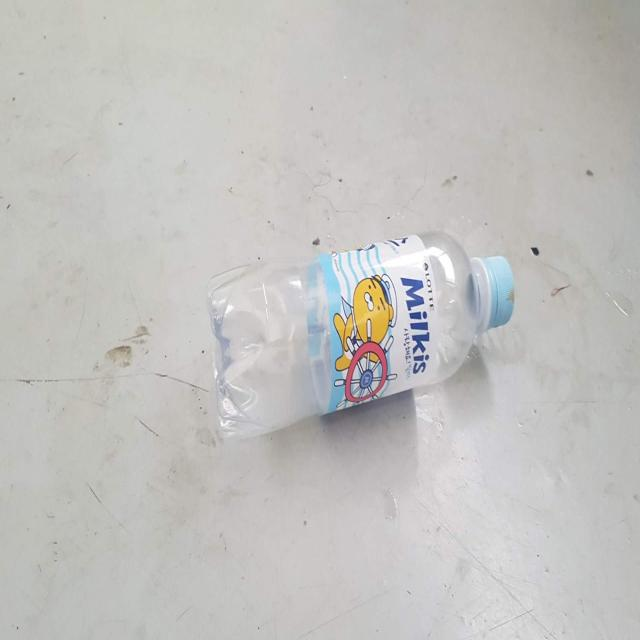plastic: (207, 231, 515, 436)
